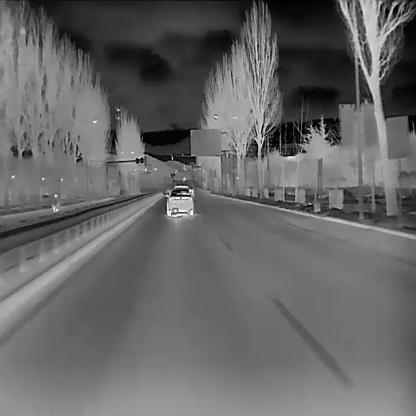car: (164, 187, 194, 216), (51, 192, 59, 213)
